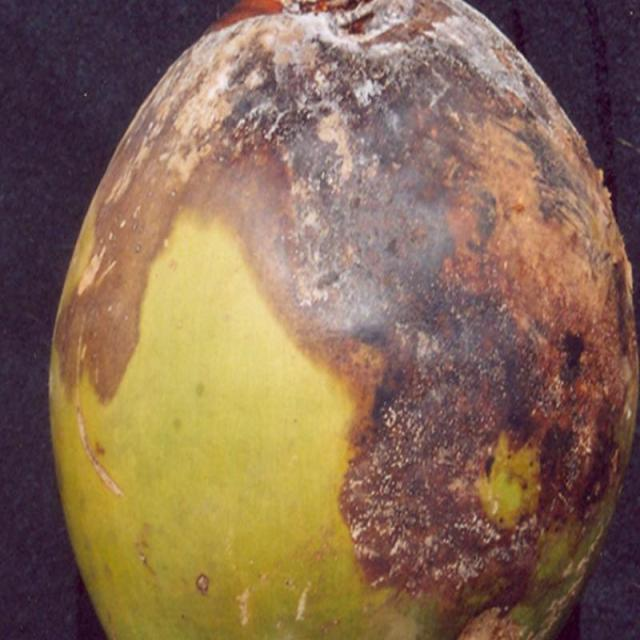damaged: (46, 0, 639, 639)
